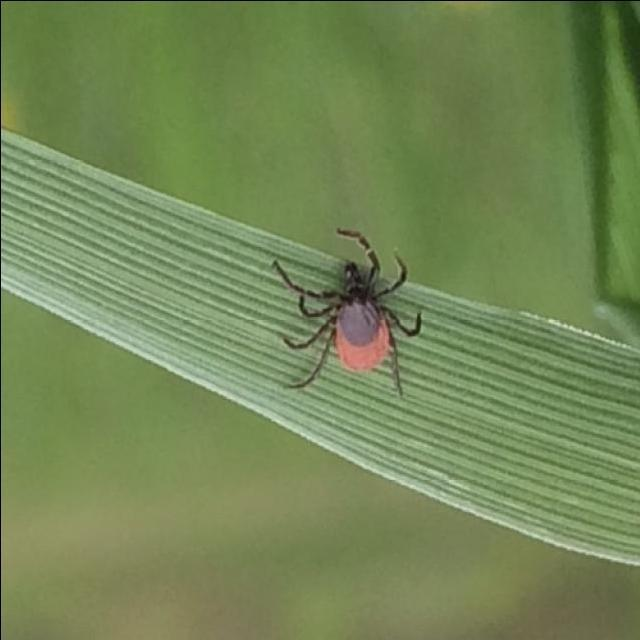Ixodes Ricinus-F: (270, 225, 420, 395)
